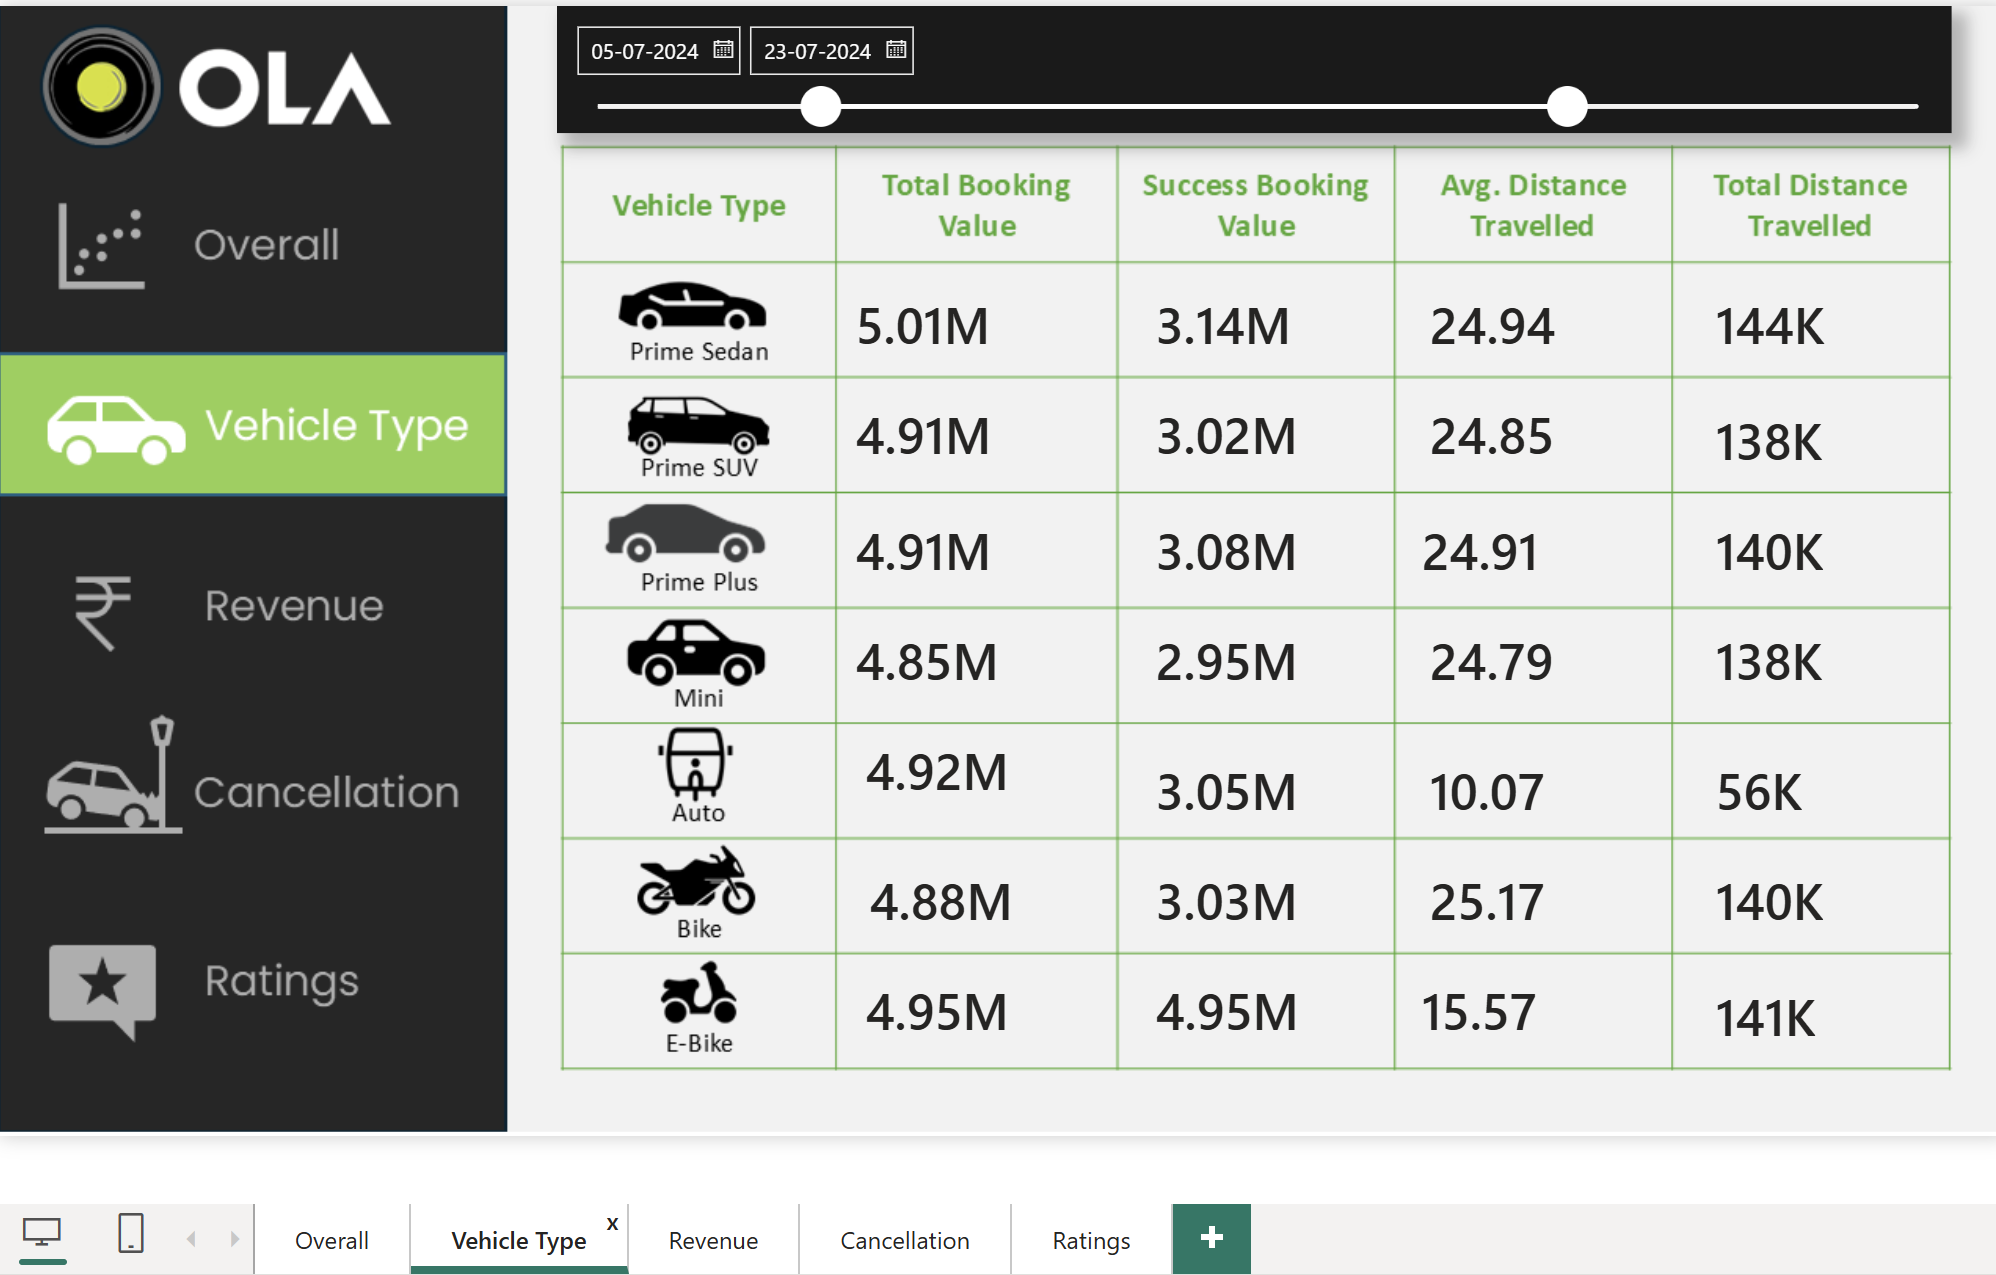

This screenshot's page, from the dashboard's own definition file:
{"tool":"powerbi","page":{"name":"Vehicle Type","canvas":[1280,720],"ordinal":1},"visuals":[{"type":"actionButton","box":[0,110.3,324.2,93.3],"z":0},{"type":"actionButton","box":[0,333.3,324.2,94.4],"z":1000},{"type":"actionButton","box":[0,442.5,324.2,109.2],"z":2000},{"type":"actionButton","box":[0,580.1,324.2,95.5],"z":3000},{"type":"cardVisual","fields":{"Data":["Sum(Bookings_OLA_Dataset.Booking_Value)"]},"box":[528.6,166.2,181.8,70.1],"z":4000},{"type":"cardVisual","fields":{"Data":["Sum(Bookings_OLA_Dataset.Booking_Value)"]},"box":[528.6,236.4,181.8,70.1],"z":5000},{"type":"cardVisual","fields":{"Data":["Sum(Bookings_OLA_Dataset.Booking_Value)"]},"box":[528.6,310.4,181.8,70.1],"z":6000},{"type":"cardVisual","fields":{"Data":["Sum(Bookings_OLA_Dataset.Booking_Value)"]},"box":[528.6,380.5,192.2,70.1],"z":7000},{"type":"cardVisual","fields":{"Data":["Sum(Bookings_OLA_Dataset.Booking_Value)"]},"box":[535.1,450.6,163.6,70.1],"z":8000},{"type":"cardVisual","fields":{"Data":["Sum(Bookings_OLA_Dataset.Booking_Value)"]},"box":[537.7,532.5,155.8,70.1],"z":9000},{"type":"cardVisual","fields":{"Data":["Sum(Bookings_OLA_Dataset.Booking_Value)"]},"box":[535.1,602.6,158.4,70.1],"z":10000},{"type":"cardVisual","fields":{"Data":["Sum(Bookings_OLA_Dataset.Booking_Value)"]},"box":[720.8,166.2,145.5,70.1],"z":11000},{"type":"cardVisual","fields":{"Data":["Sum(Bookings_OLA_Dataset.Booking_Value)"]},"box":[720.8,236.4,145.5,70.1],"z":12000},{"type":"cardVisual","fields":{"Data":["Sum(Bookings_OLA_Dataset.Booking_Value)"]},"box":[720.8,310.4,145.5,70.1],"z":13000},{"type":"cardVisual","fields":{"Data":["Sum(Bookings_OLA_Dataset.Booking_Value)"]},"box":[720.8,380.5,145.5,70.1],"z":14000},{"type":"cardVisual","fields":{"Data":["Sum(Bookings_OLA_Dataset.Booking_Value)"]},"box":[720.8,462.3,145.5,70.1],"z":15000},{"type":"cardVisual","fields":{"Data":["Sum(Bookings_OLA_Dataset.Booking_Value)"]},"box":[720.8,532.5,145.5,70.1],"z":16000},{"type":"cardVisual","fields":{"Data":["Sum(Bookings_OLA_Dataset.Booking_Value)"]},"box":[720.8,602.6,145.5,70.1],"z":17000},{"type":"cardVisual","fields":{"Data":["Avg(Bookings_OLA_Dataset.Ride_Distance)"]},"box":[894.8,166.2,145.5,70.1],"z":18000},{"type":"cardVisual","fields":{"Data":["Avg(Bookings_OLA_Dataset.Ride_Distance)"]},"box":[894.8,236.4,135.1,70.1],"z":19000},{"type":"cardVisual","fields":{"Data":["Avg(Bookings_OLA_Dataset.Ride_Distance)"]},"box":[889.6,310.4,145.5,70.1],"z":20000},{"type":"cardVisual","fields":{"Data":["Avg(Bookings_OLA_Dataset.Ride_Distance)"]},"box":[894.8,380.5,145.5,70.1],"z":21000},{"type":"cardVisual","fields":{"Data":["Avg(Bookings_OLA_Dataset.Ride_Distance)"]},"box":[894.8,462.3,145.5,70.1],"z":22000},{"type":"cardVisual","fields":{"Data":["Avg(Bookings_OLA_Dataset.Ride_Distance)"]},"box":[894.8,532.5,145.5,70.1],"z":23000},{"type":"cardVisual","fields":{"Data":["Avg(Bookings_OLA_Dataset.Ride_Distance)"]},"box":[889.6,602.6,145.5,70.1],"z":24000},{"type":"cardVisual","fields":{"Data":["Sum(Bookings_OLA_Dataset.Ride_Distance)"]},"box":[1077.9,166.2,145.5,70.1],"z":25000},{"type":"cardVisual","fields":{"Data":["Sum(Bookings_OLA_Dataset.Ride_Distance)"]},"box":[1077.9,240.3,135.1,70.1],"z":26000},{"type":"cardVisual","fields":{"Data":["Sum(Bookings_OLA_Dataset.Ride_Distance)"]},"box":[1077.9,310.4,145.5,70.1],"z":27000},{"type":"cardVisual","fields":{"Data":["Sum(Bookings_OLA_Dataset.Ride_Distance)"]},"box":[1077.9,380.5,145.5,70.1],"z":28000},{"type":"cardVisual","fields":{"Data":["Sum(Bookings_OLA_Dataset.Ride_Distance)"]},"box":[1077.9,462.3,145.5,70.1],"z":29000},{"type":"cardVisual","fields":{"Data":["Sum(Bookings_OLA_Dataset.Ride_Distance)"]},"box":[1077.9,532.5,145.5,70.1],"z":30000},{"type":"cardVisual","fields":{"Data":["Sum(Bookings_OLA_Dataset.Ride_Distance)"]},"box":[1077.9,606.5,145.5,70.1],"z":31000},{"type":"slicer","title":"Date","fields":{"Values":["Bookings_OLA_Dataset.Date"]},"box":[355.4,0,889.2,81.1],"z":32000}]}

Visuals, with their boxes on the page's 1280x720 design canvas (x1, y1, x2, y2). These are canvas units, not pixel positions in the 1996x1275 screenshot, which may show the page scaled, cropped or inside an application window:
actionButton: {"x1": 0, "y1": 110, "x2": 324, "y2": 204}
actionButton: {"x1": 0, "y1": 333, "x2": 324, "y2": 428}
actionButton: {"x1": 0, "y1": 442, "x2": 324, "y2": 552}
actionButton: {"x1": 0, "y1": 580, "x2": 324, "y2": 676}
cardVisual - Sum(Bookings_OLA_Dataset.Booking_Value): {"x1": 529, "y1": 166, "x2": 710, "y2": 236}
cardVisual - Sum(Bookings_OLA_Dataset.Booking_Value): {"x1": 529, "y1": 236, "x2": 710, "y2": 306}
cardVisual - Sum(Bookings_OLA_Dataset.Booking_Value): {"x1": 529, "y1": 310, "x2": 710, "y2": 380}
cardVisual - Sum(Bookings_OLA_Dataset.Booking_Value): {"x1": 529, "y1": 380, "x2": 721, "y2": 451}
cardVisual - Sum(Bookings_OLA_Dataset.Booking_Value): {"x1": 535, "y1": 451, "x2": 699, "y2": 521}
cardVisual - Sum(Bookings_OLA_Dataset.Booking_Value): {"x1": 538, "y1": 532, "x2": 694, "y2": 603}
cardVisual - Sum(Bookings_OLA_Dataset.Booking_Value): {"x1": 535, "y1": 603, "x2": 694, "y2": 673}
cardVisual - Sum(Bookings_OLA_Dataset.Booking_Value): {"x1": 721, "y1": 166, "x2": 866, "y2": 236}
cardVisual - Sum(Bookings_OLA_Dataset.Booking_Value): {"x1": 721, "y1": 236, "x2": 866, "y2": 306}
cardVisual - Sum(Bookings_OLA_Dataset.Booking_Value): {"x1": 721, "y1": 310, "x2": 866, "y2": 380}
cardVisual - Sum(Bookings_OLA_Dataset.Booking_Value): {"x1": 721, "y1": 380, "x2": 866, "y2": 451}
cardVisual - Sum(Bookings_OLA_Dataset.Booking_Value): {"x1": 721, "y1": 462, "x2": 866, "y2": 532}
cardVisual - Sum(Bookings_OLA_Dataset.Booking_Value): {"x1": 721, "y1": 532, "x2": 866, "y2": 603}
cardVisual - Sum(Bookings_OLA_Dataset.Booking_Value): {"x1": 721, "y1": 603, "x2": 866, "y2": 673}
cardVisual - Avg(Bookings_OLA_Dataset.Ride_Distance): {"x1": 895, "y1": 166, "x2": 1040, "y2": 236}
cardVisual - Avg(Bookings_OLA_Dataset.Ride_Distance): {"x1": 895, "y1": 236, "x2": 1030, "y2": 306}
cardVisual - Avg(Bookings_OLA_Dataset.Ride_Distance): {"x1": 890, "y1": 310, "x2": 1035, "y2": 380}
cardVisual - Avg(Bookings_OLA_Dataset.Ride_Distance): {"x1": 895, "y1": 380, "x2": 1040, "y2": 451}
cardVisual - Avg(Bookings_OLA_Dataset.Ride_Distance): {"x1": 895, "y1": 462, "x2": 1040, "y2": 532}
cardVisual - Avg(Bookings_OLA_Dataset.Ride_Distance): {"x1": 895, "y1": 532, "x2": 1040, "y2": 603}
cardVisual - Avg(Bookings_OLA_Dataset.Ride_Distance): {"x1": 890, "y1": 603, "x2": 1035, "y2": 673}
cardVisual - Sum(Bookings_OLA_Dataset.Ride_Distance): {"x1": 1078, "y1": 166, "x2": 1223, "y2": 236}
cardVisual - Sum(Bookings_OLA_Dataset.Ride_Distance): {"x1": 1078, "y1": 240, "x2": 1213, "y2": 310}
cardVisual - Sum(Bookings_OLA_Dataset.Ride_Distance): {"x1": 1078, "y1": 310, "x2": 1223, "y2": 380}
cardVisual - Sum(Bookings_OLA_Dataset.Ride_Distance): {"x1": 1078, "y1": 380, "x2": 1223, "y2": 451}
cardVisual - Sum(Bookings_OLA_Dataset.Ride_Distance): {"x1": 1078, "y1": 462, "x2": 1223, "y2": 532}
cardVisual - Sum(Bookings_OLA_Dataset.Ride_Distance): {"x1": 1078, "y1": 532, "x2": 1223, "y2": 603}
cardVisual - Sum(Bookings_OLA_Dataset.Ride_Distance): {"x1": 1078, "y1": 606, "x2": 1223, "y2": 677}
"Date" slicer: {"x1": 355, "y1": 0, "x2": 1245, "y2": 81}
